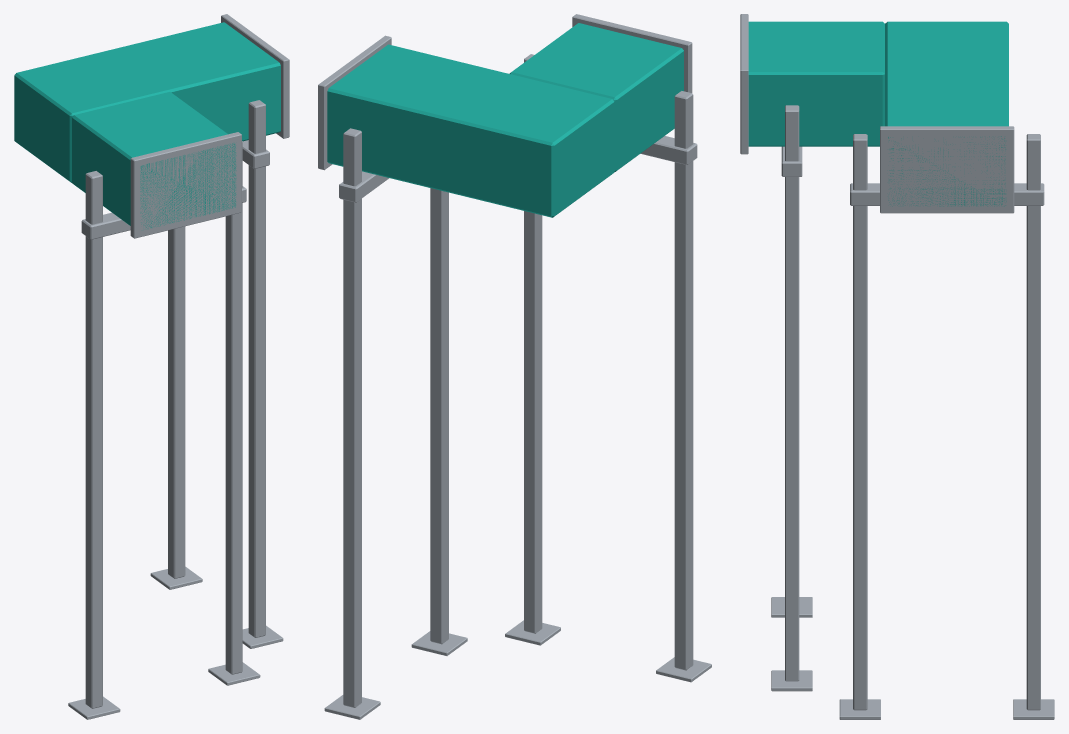
The model's file is exhaust-duct-corner.glb.
3 views of the same model, side by side, from view 1: azimuth 30°, elevation 25°; view 2: azimuth 150°, elevation 25°; view 3: azimuth 270°, elevation 25° (orthographic). The views are drawn at different scales.
Visible parts, largest first — view 1: exhaust-duct-corner; view 2: exhaust-duct-corner; view 3: exhaust-duct-corner.
Boxes of the visible parts, x1=… form: exhaust-duct-corner: x1=14, y1=14, x2=289, y2=719; exhaust-duct-corner: x1=318, y1=14, x2=711, y2=719; exhaust-duct-corner: x1=740, y1=14, x2=1054, y2=719.
Bounding box in the file's own units: 1.52 × 3.22 × 1.52.
